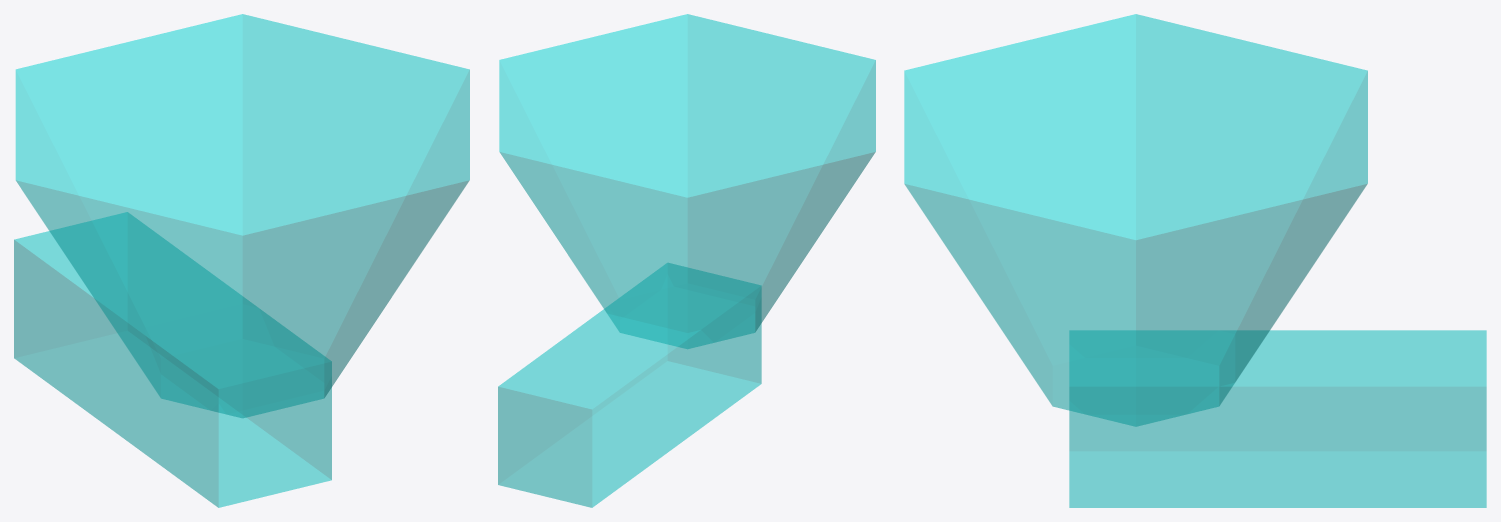
File: SM_Prop_Torch_02_Collision_01.fbx
The picture shows the model from 3 angles, left to right: view 1: azimuth 30°, elevation 25°; view 2: azimuth 150°, elevation 25°; view 3: azimuth 270°, elevation 25°; orthographic projection. The views are drawn at different scales.
Parts seen in each view (by area): view 1: SM_Prop_Torch_02_Collision_01; view 2: SM_Prop_Torch_02_Collision_01; view 3: SM_Prop_Torch_02_Collision_01.
Boxes of the visible parts, x1,y1,x2,y2 form: SM_Prop_Torch_02_Collision_01: (14, 14, 469, 507); SM_Prop_Torch_02_Collision_01: (498, 14, 875, 507); SM_Prop_Torch_02_Collision_01: (904, 14, 1486, 507).
Bounding box in the file's own units: 57.54 × 41.81 × 62.61.
